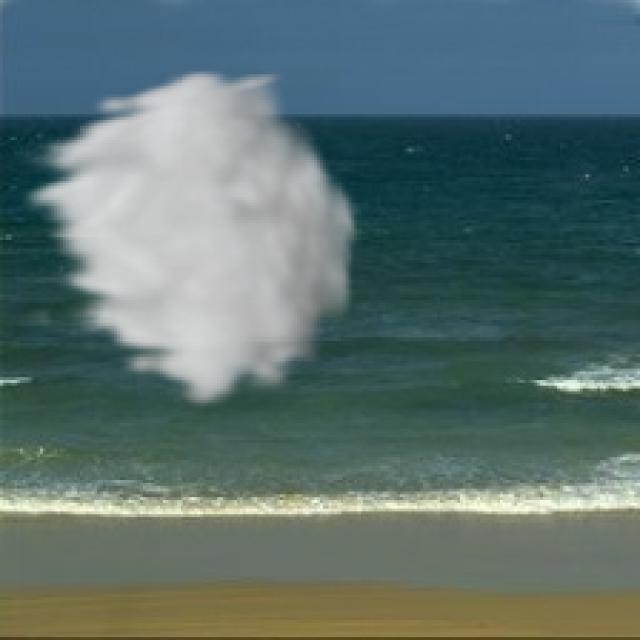smoke: (11, 66, 366, 411)
